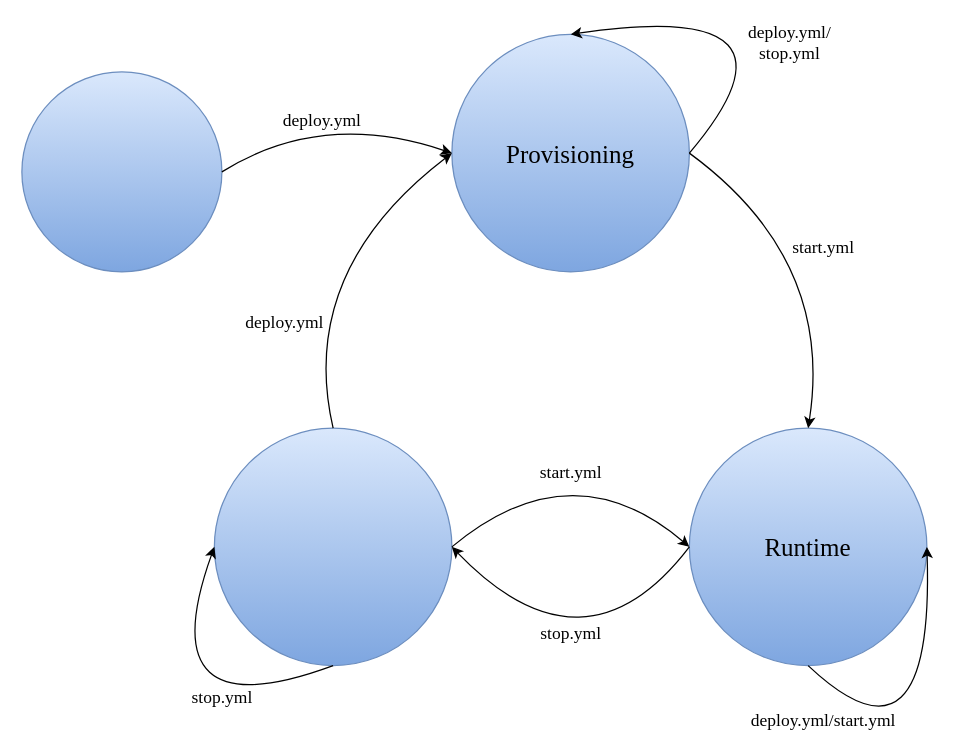
Image size: 954x755. Some labels were removed from this diagram. Here are the shapes that lost their labels. From the top down, the centre of each, then its label:
the point at 121,171: Baseline
the point at 332,546: Halt
